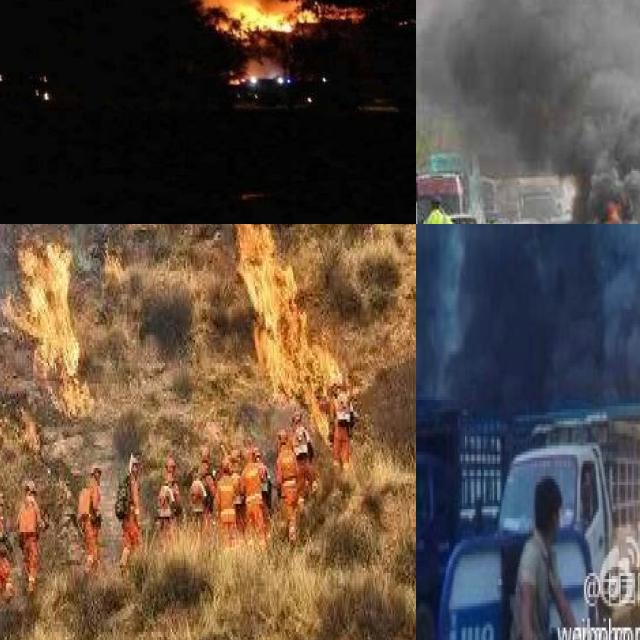fire: (230, 224, 343, 426), (0, 240, 97, 452), (191, 0, 320, 39)
smoke: (416, 0, 640, 224), (416, 224, 640, 409)
